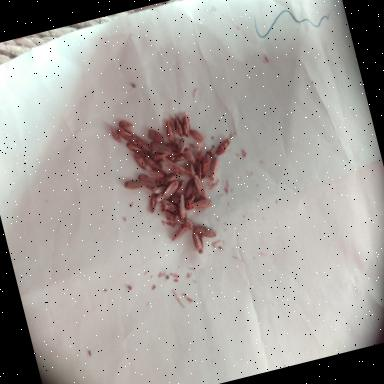pbw: (149, 138, 174, 160), (195, 151, 214, 179), (116, 124, 138, 148), (204, 156, 224, 182), (188, 162, 206, 190), (158, 180, 182, 201), (158, 154, 178, 178), (134, 134, 154, 158), (136, 170, 158, 191), (194, 221, 217, 241), (192, 173, 208, 201), (158, 170, 182, 188), (178, 111, 194, 138), (160, 196, 180, 217), (174, 212, 195, 232), (164, 208, 184, 229), (190, 229, 206, 255), (180, 178, 198, 201), (212, 136, 232, 156), (182, 192, 202, 211), (188, 126, 207, 146), (144, 191, 160, 214), (162, 118, 176, 144), (170, 112, 184, 138), (146, 127, 165, 146), (132, 150, 148, 172), (122, 177, 144, 193), (174, 194, 188, 219), (107, 121, 122, 144), (168, 225, 188, 242), (144, 152, 161, 172), (192, 141, 208, 162), (152, 184, 170, 202), (117, 117, 135, 135), (125, 138, 143, 156), (191, 198, 213, 212), (173, 180, 188, 198), (147, 168, 165, 182), (182, 147, 196, 165), (165, 140, 180, 156), (175, 136, 188, 154), (184, 162, 196, 181), (173, 162, 187, 178), (150, 150, 168, 162), (169, 152, 186, 164)
